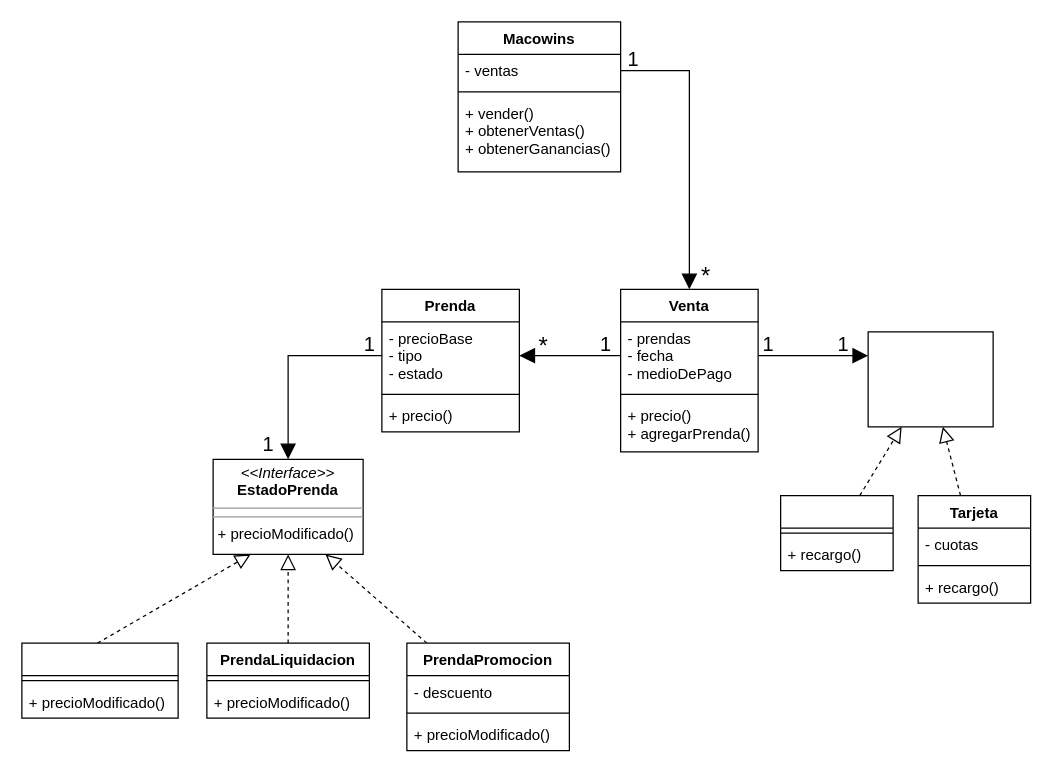
Some shapes in this 1053 by 776 pixel diagram are drawn without their labels. The shapes that lost their labels are listed below. From the top down, each one's box as (x1, y1, x2, y2) in pixels, then its label:
(867, 331, 993, 427): <<Interface>> MedioPago + recargo()
(779, 494, 893, 571): Efectivo
(21, 642, 178, 718): PrendaNueva
